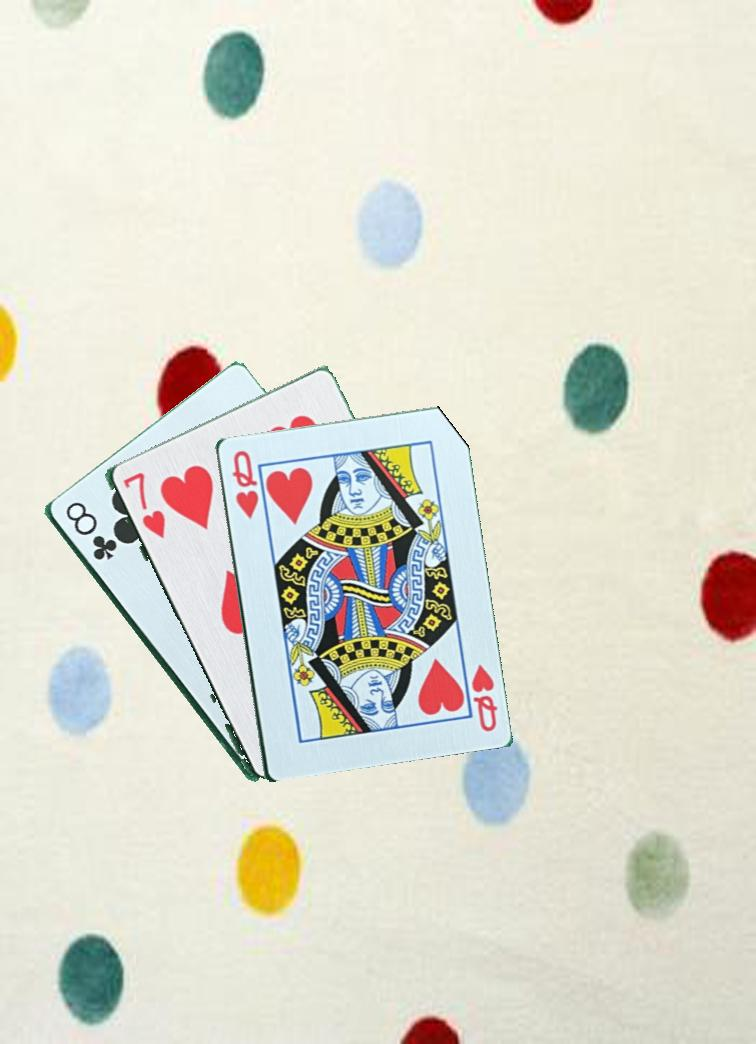7h: (118, 468, 168, 541)
8c: (61, 498, 117, 566)
qh: (227, 446, 261, 522), (467, 660, 500, 734)
